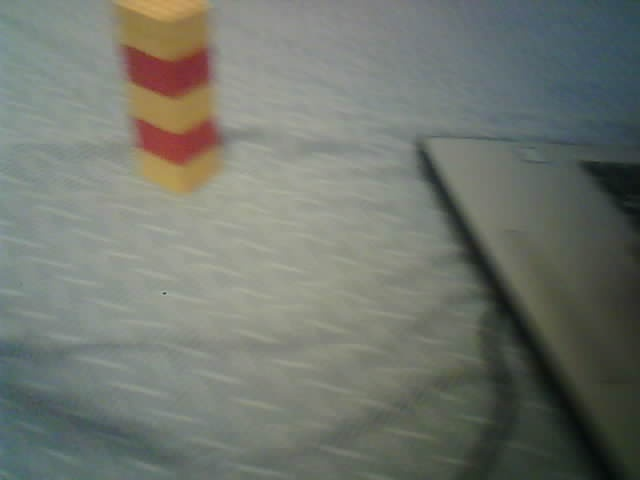lego: (114, 1, 224, 196)
